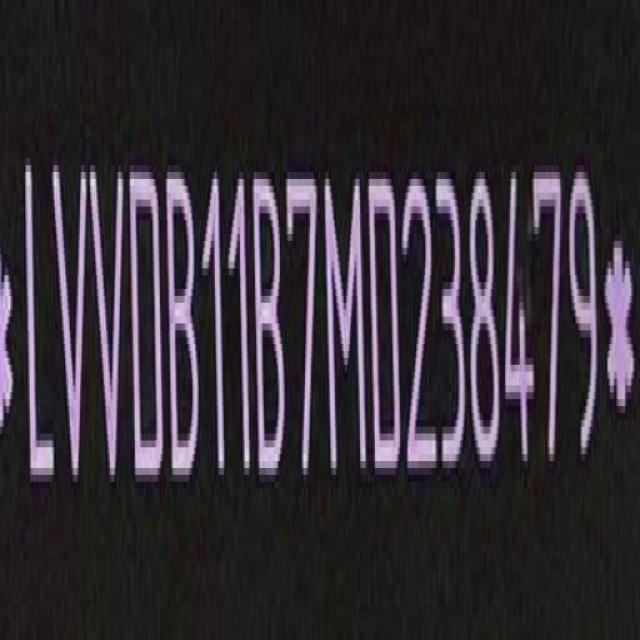1: (203, 163, 228, 479), (229, 168, 253, 484)
2: (399, 166, 439, 482)
3: (435, 178, 468, 492)
4: (505, 171, 535, 471)
7: (284, 166, 319, 487), (532, 158, 564, 474)
8: (469, 168, 502, 472)
9: (569, 174, 600, 472)
B: (251, 158, 287, 484), (164, 158, 200, 479)
D: (126, 166, 164, 484), (368, 168, 402, 466)
L: (24, 163, 57, 479)
M: (322, 171, 369, 482)
V: (51, 143, 88, 479), (89, 166, 125, 479)
